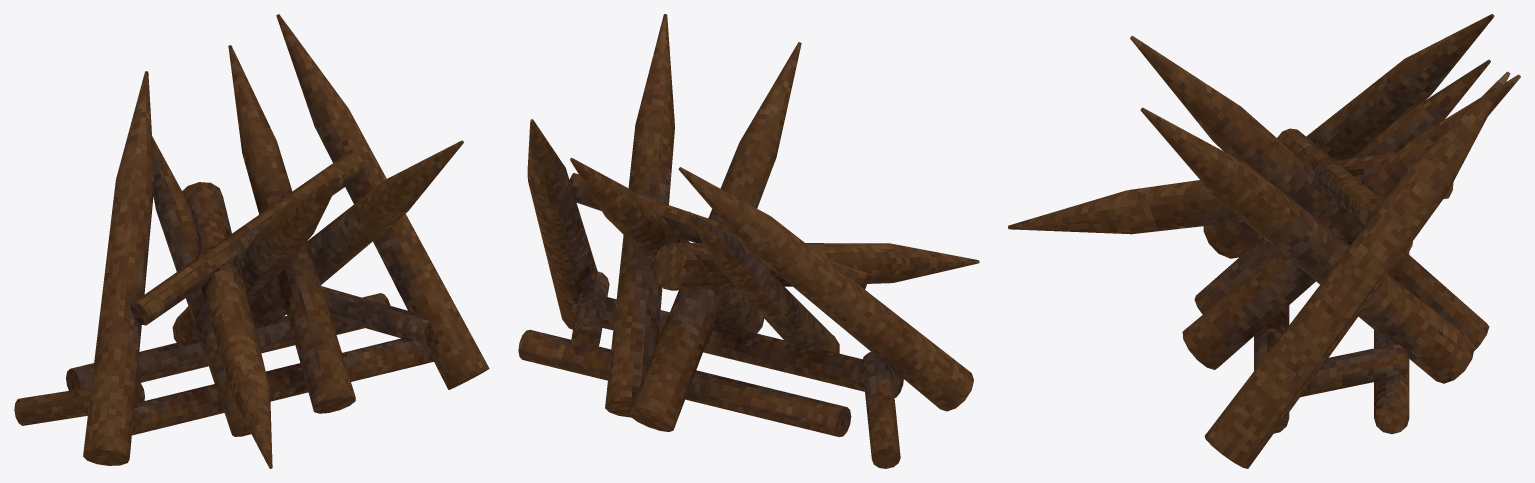
The model's file is Spike_Fence_Variant_2.gltf.
3 renders of one model, left to right at view 1: azimuth 30°, elevation 25°; view 2: azimuth 150°, elevation 25°; view 3: azimuth 270°, elevation 25°, orthographic. The views are drawn at different scales.
Parts seen in each view (by area): view 1: Spike_Fence_Variant_2; view 2: Spike_Fence_Variant_2; view 3: Spike_Fence_Variant_2.
Part boxes in pixels (x1,y1,x2,y2): Spike_Fence_Variant_2: (14,14,489,468); Spike_Fence_Variant_2: (518,14,979,468); Spike_Fence_Variant_2: (1008,14,1520,468).
Bounding box in the file's own units: 6.14 × 4.49 × 5.85.
1 material, 1 textured.
